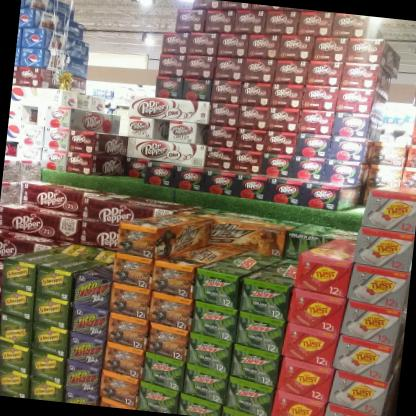empty_space: (376, 75, 416, 191)
